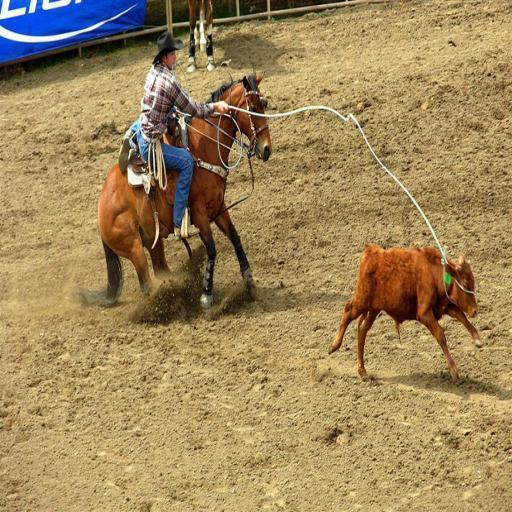horse: (96, 66, 272, 324), (186, 2, 216, 72)
